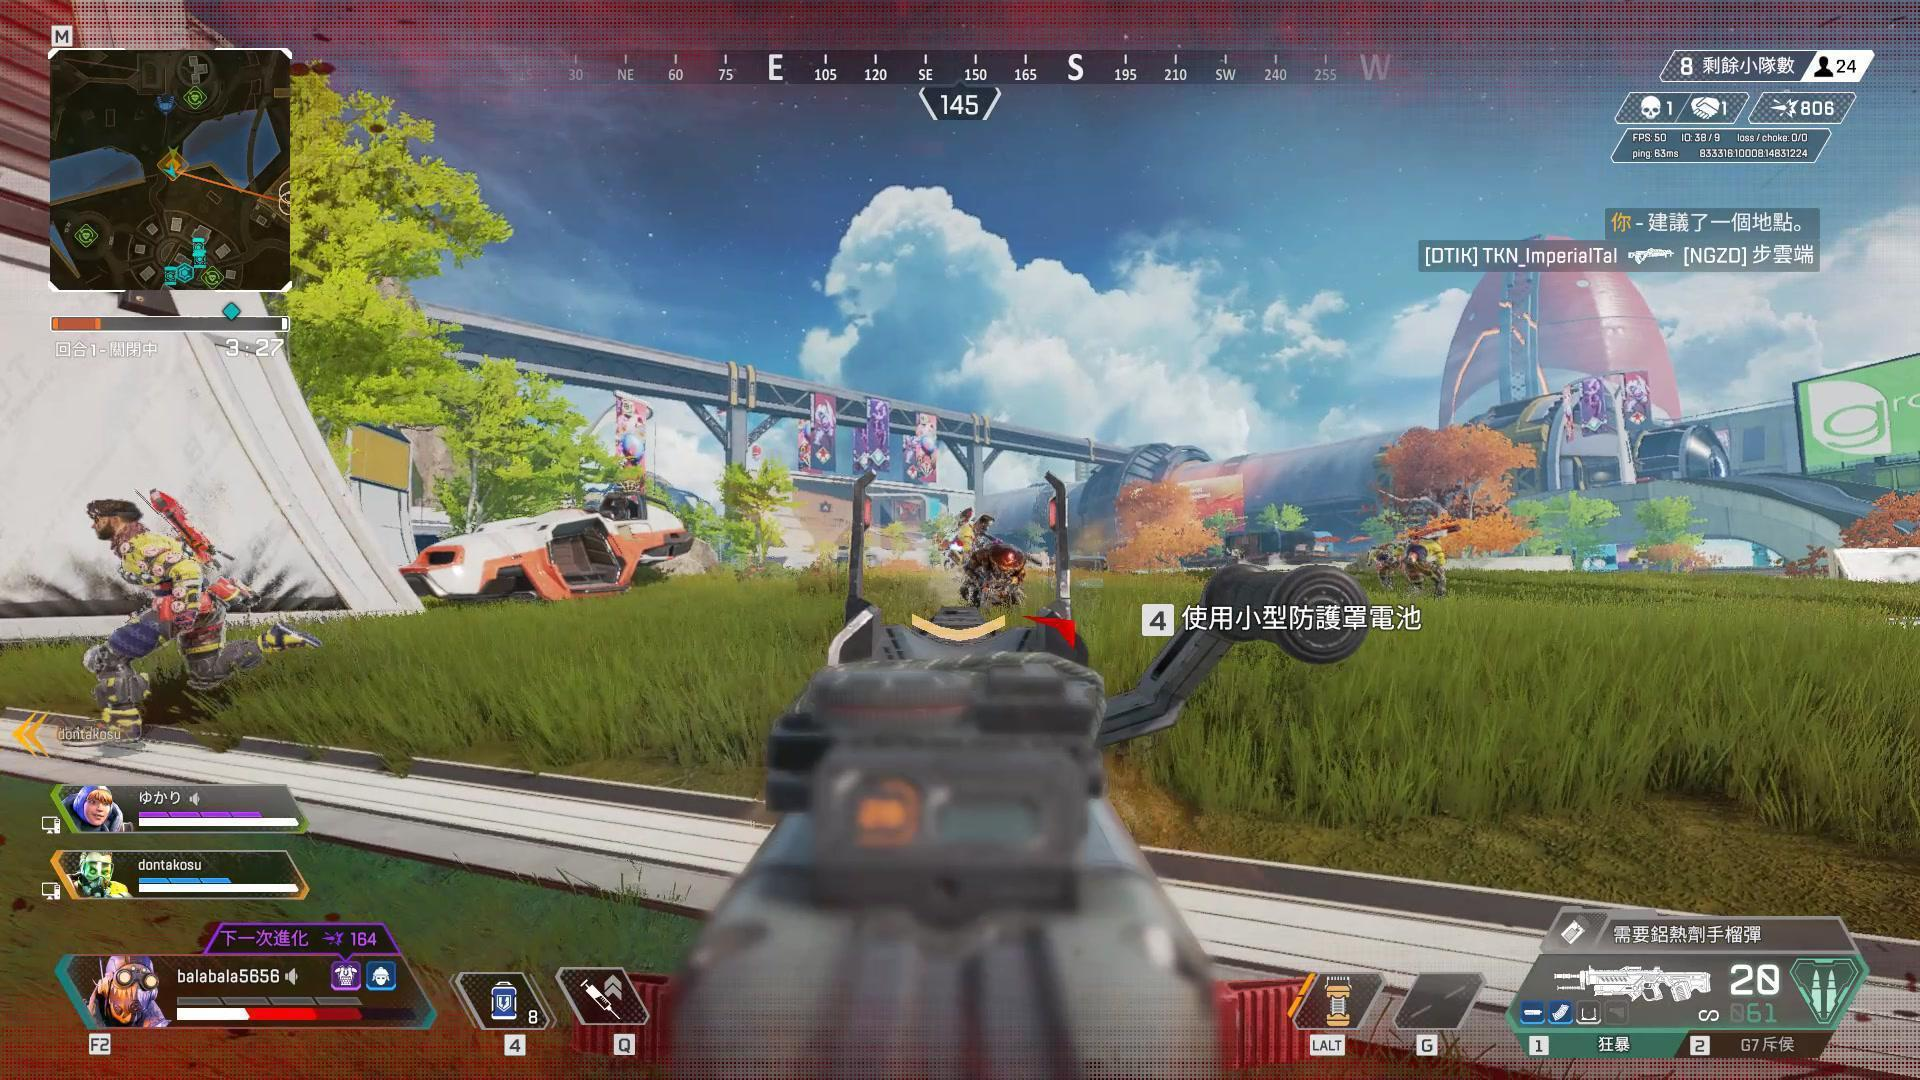avatar: (79, 493, 230, 746)
